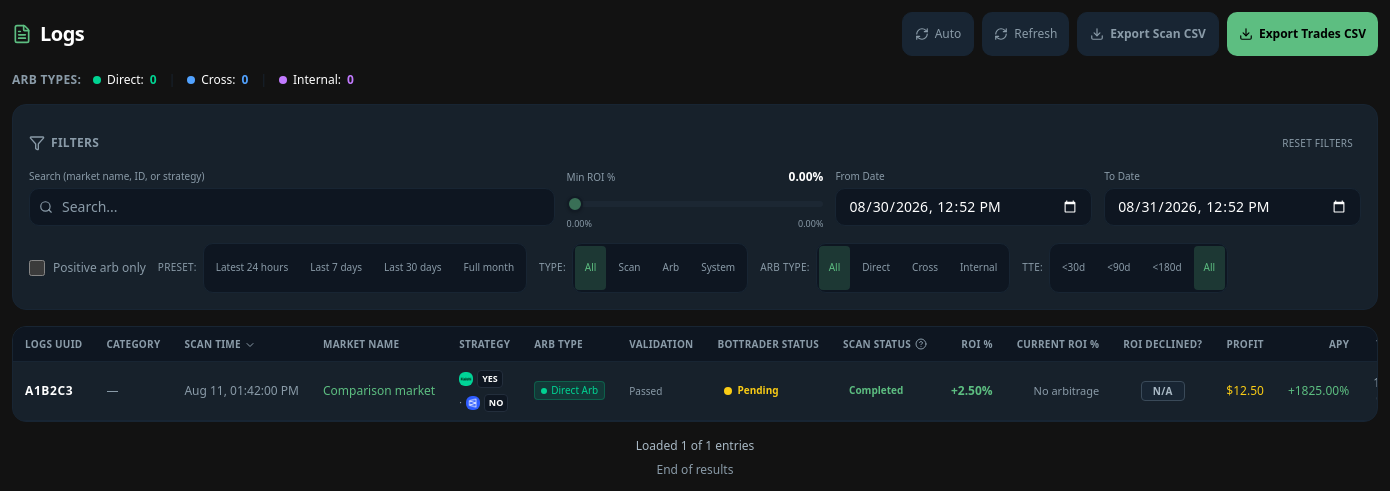
LogsPanel › updates a pending BotTrader indicator through existing auto-refresh polling
Expected: the message named "BotTrader evaluation: pending; completed: no" is shown, [724,383,778,397]
What coordinates should you click on to do the following:
click the button "Auto"
I would click on:
 (938, 34)
Its box is [902,12,974,56].
Wait 15000 ms
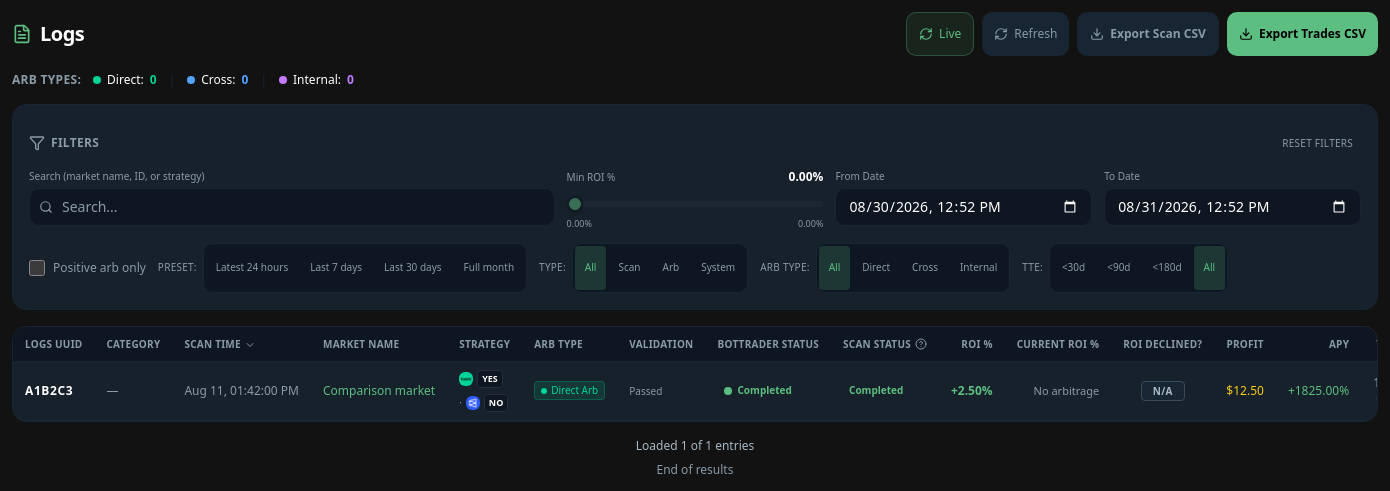
Expected: the message named "BotTrader evaluation: completed; completed: yes" is shown, [724,383,792,397]
